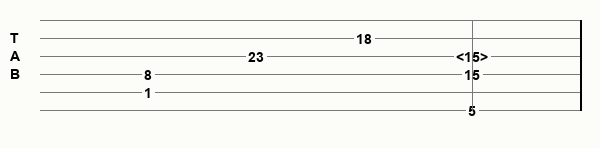1: (144, 85, 156, 99)
15: (464, 67, 484, 81)
18: (356, 31, 376, 45)
23: (248, 49, 268, 63)
5: (468, 103, 480, 117)
8: (144, 67, 156, 81)
harmonic: (456, 49, 492, 63)
